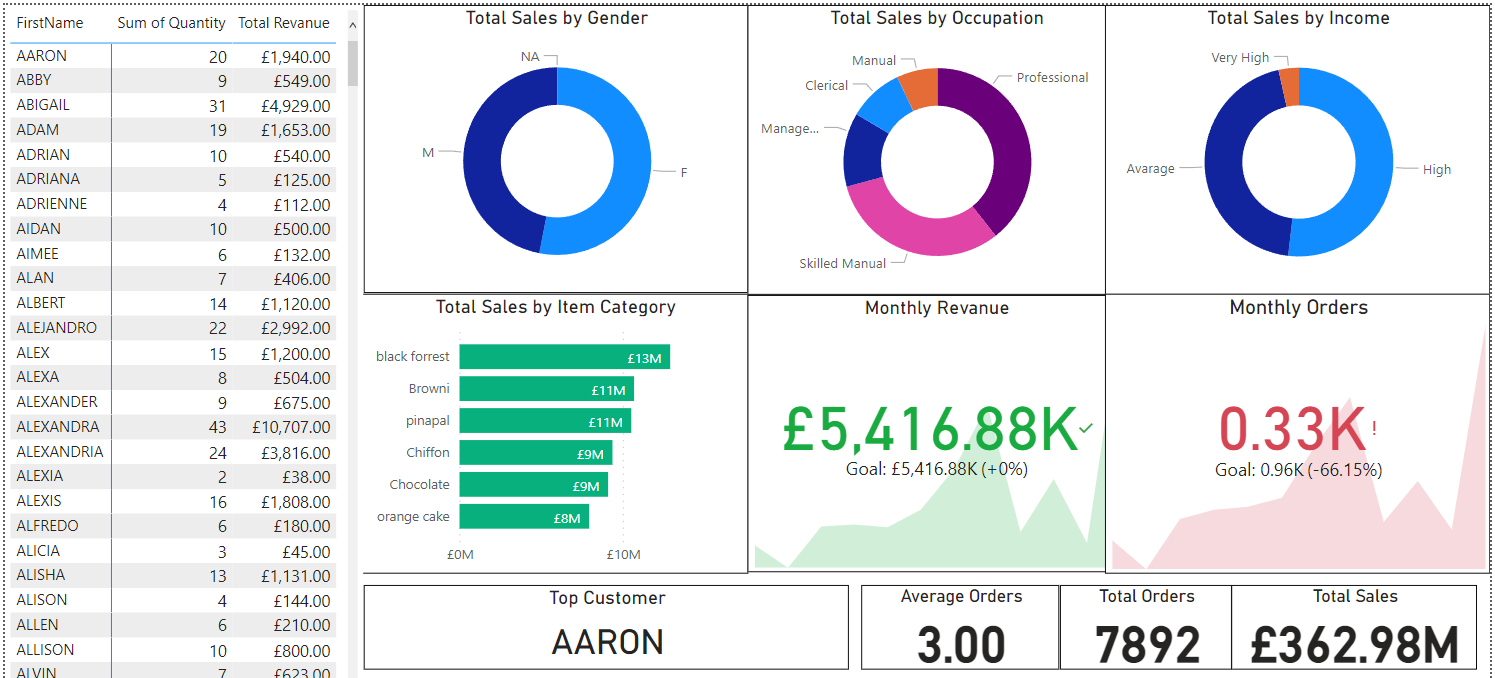

The dashboard page shown, as its layout file describes it:
{"tool":"powerbi","page":{"name":"Main Analysis","canvas":[1320,600],"ordinal":0},"visuals":[{"type":"clusteredBarChart","title":"Total Sales by Item Category","fields":{"Category":["Iteam_LOOKUP.Name"],"Y":["Order_Data.Total Revanue"]},"box":[316.2,256.2,343.8,248.8],"z":0},{"type":"card","title":"Total Sales","fields":{"Values":["Order_Data.Total Revanue"]},"box":[1090,515,218.8,75],"z":1000},{"type":"donutChart","title":"Total Sales by Gender","fields":{"Category":["Customer (2).Gender"],"Y":["Order_Data.Total Revanue"]},"box":[318.8,0,341.2,256.2],"z":2000},{"type":"donutChart","title":"Total Sales by Occupation","fields":{"Category":["Customer (2).Occupation"],"Y":["Order_Data.Total Revanue"]},"box":[660,0,335,257.5],"z":3000},{"type":"pivotTable","title":"ss","fields":{"Rows":["Customer (2).FirstName"],"Values":["Order_Data.Quantity","Order_Data.Total Revanue"]},"box":[0,0,318.8,720],"z":4000},{"type":"donutChart","title":"Total Sales by Income","fields":{"Y":["Order_Data.Total Revanue"],"Category":["Customer (2).Income category"]},"box":[977.5,0,342.5,257.5],"z":5000},{"type":"card","title":"Total Orders","fields":{"Values":["Order_Data.Quantity"]},"box":[937.5,515,152.5,75],"z":6000},{"type":"card","title":"Average Orders","fields":{"Values":["Order_Data.Quantity"]},"box":[761.2,515,176.2,75],"z":7000},{"type":"kpi","title":"Monthly Revanue ","fields":{"Indicator":["Order_Data.Total Revanue"],"TrendLine":["Order_Data.Start of the month"],"Goal":["Order_Data.Pre Month Rev"]},"box":[660,257.5,335,246.2],"z":8000},{"type":"kpi","title":"Monthly Orders","fields":{"Indicator":["Order_Data.QuantityType"],"TrendLine":["Order_Data.Start of the month"],"Goal":["Order_Data.Per Month Order"]},"box":[977.5,256.2,342.5,248.8],"z":9000},{"type":"card","title":"Top Customer","fields":{"Values":["Order_Data.TOP CUSTOMER"]},"box":[318.8,515,431.2,75],"z":10000}]}

Visuals, with their boxes in screenshot pixels (x1, y1, x2, y2), scaled from the page's 1320x600 canvas onto the 1495x678 screenshot:
"Total Sales by Item Category" clusteredBarChart: {"x1": 358, "y1": 290, "x2": 748, "y2": 571}
"Total Sales" card: {"x1": 1235, "y1": 582, "x2": 1482, "y2": 667}
"Total Sales by Gender" donutChart: {"x1": 361, "y1": 0, "x2": 748, "y2": 290}
"Total Sales by Occupation" donutChart: {"x1": 748, "y1": 0, "x2": 1127, "y2": 291}
"ss" pivotTable: {"x1": 0, "y1": 0, "x2": 361, "y2": 677}
"Total Sales by Income" donutChart: {"x1": 1107, "y1": 0, "x2": 1494, "y2": 291}
"Total Orders" card: {"x1": 1062, "y1": 582, "x2": 1235, "y2": 667}
"Average Orders" card: {"x1": 862, "y1": 582, "x2": 1062, "y2": 667}
"Monthly Revanue " kpi: {"x1": 748, "y1": 291, "x2": 1127, "y2": 569}
"Monthly Orders" kpi: {"x1": 1107, "y1": 290, "x2": 1494, "y2": 571}
"Top Customer" card: {"x1": 361, "y1": 582, "x2": 849, "y2": 667}
